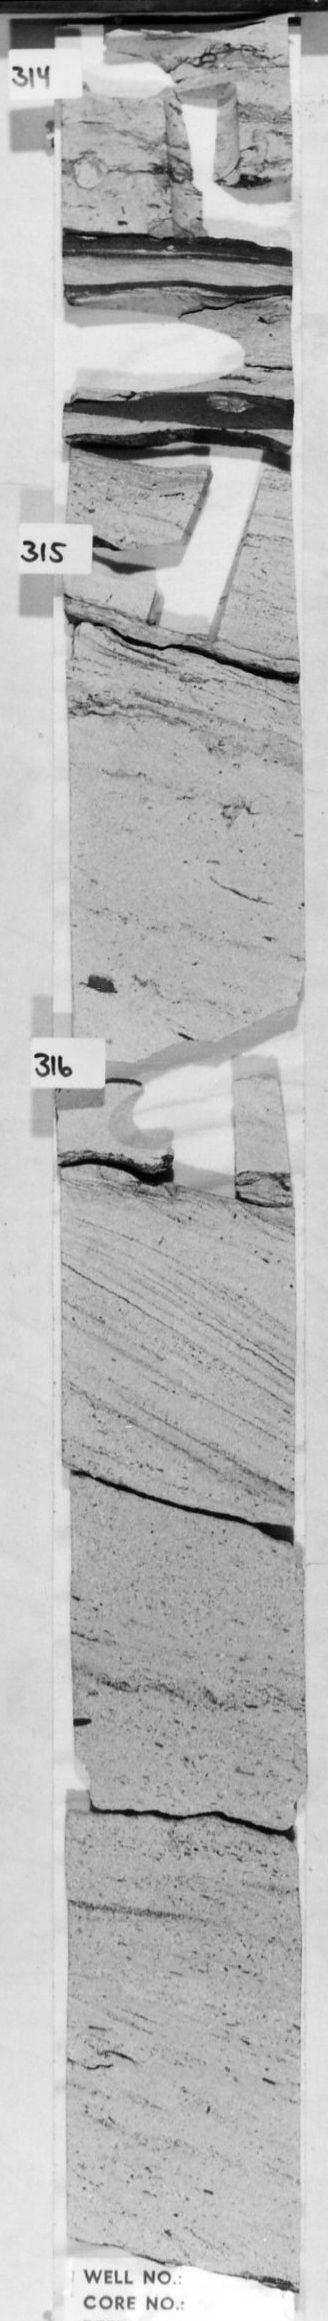hplug: (75, 38, 179, 104), (102, 1078, 167, 1160)
scal: (61, 286, 264, 398)
vplug: (143, 468, 267, 642), (161, 83, 244, 246), (165, 1078, 250, 1205)
